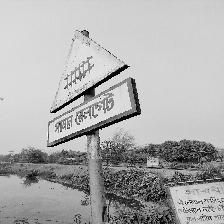Rail-crossing: (47, 31, 141, 148)
